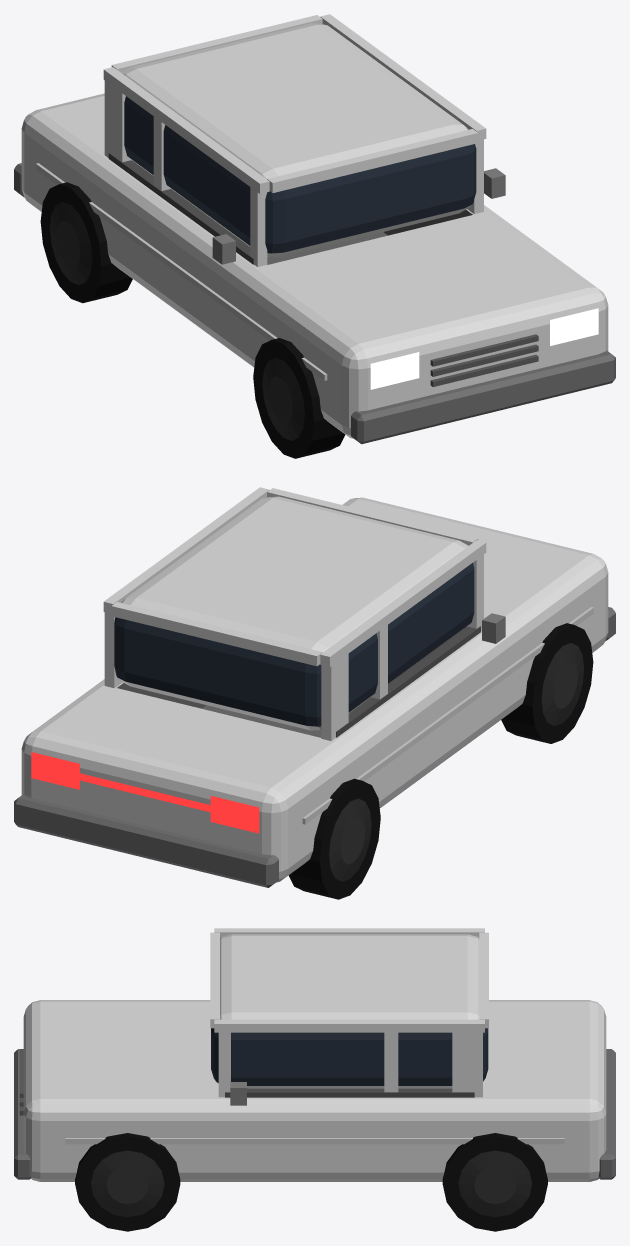
File: car_sedan.glb
3 renders of one model, top to bottom at view 1: azimuth 30°, elevation 25°; view 2: azimuth 150°, elevation 25°; view 3: azimuth 270°, elevation 25°, orthographic. The views are drawn at different scales.
Parts seen in each view (by area): view 1: Body, WheelRL, WheelFL; view 2: Body, WheelRL, WheelFL; view 3: Body, WheelRR, WheelFR.
Part boxes in pixels (x1=…): Body: x1=14, y1=14, x2=615, y2=444; WheelRL: x1=40, y1=182, x2=132, y2=303; WheelFL: x1=253, y1=338, x2=345, y2=458; Body: x1=14, y1=487, x2=615, y2=887; WheelRL: x1=288, y1=778, x2=380, y2=899; WheelFL: x1=501, y1=623, x2=593, y2=743; Body: x1=14, y1=928, x2=615, y2=1181; WheelRR: x1=442, y1=1133, x2=547, y2=1231; WheelFR: x1=75, y1=1133, x2=180, y2=1231.
Size of the model in its own units: 2.05 by 1.58 by 4.34.
